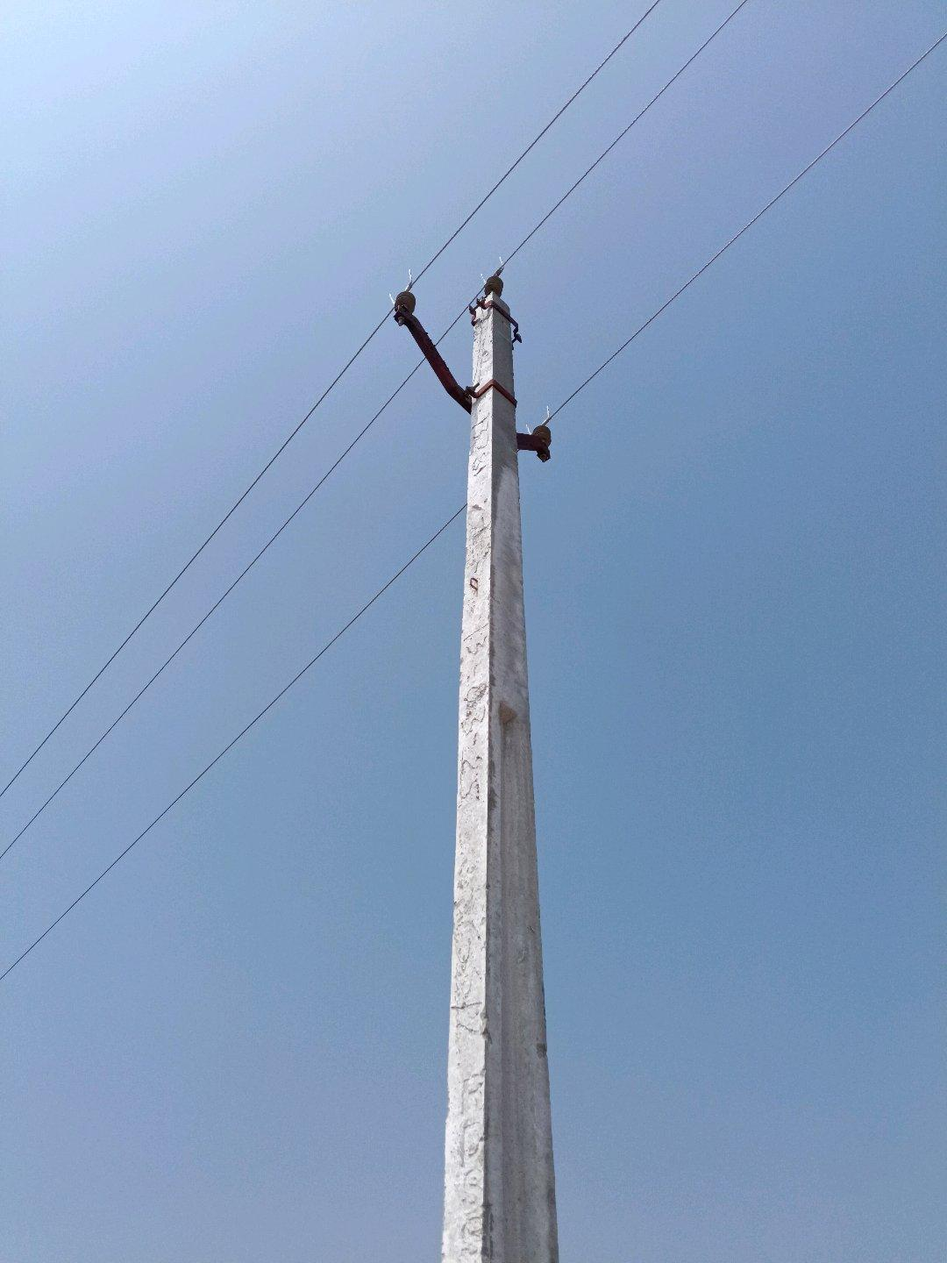{"0" "insulator", "1" "pole", "2" "crossarm", "3" "conductor", "4" "street_: (393, 271, 557, 1262), (579, 366, 602, 390), (561, 393, 577, 408), (606, 361, 609, 365), (614, 355, 616, 359), (747, 228, 749, 230), (623, 345, 624, 348)
